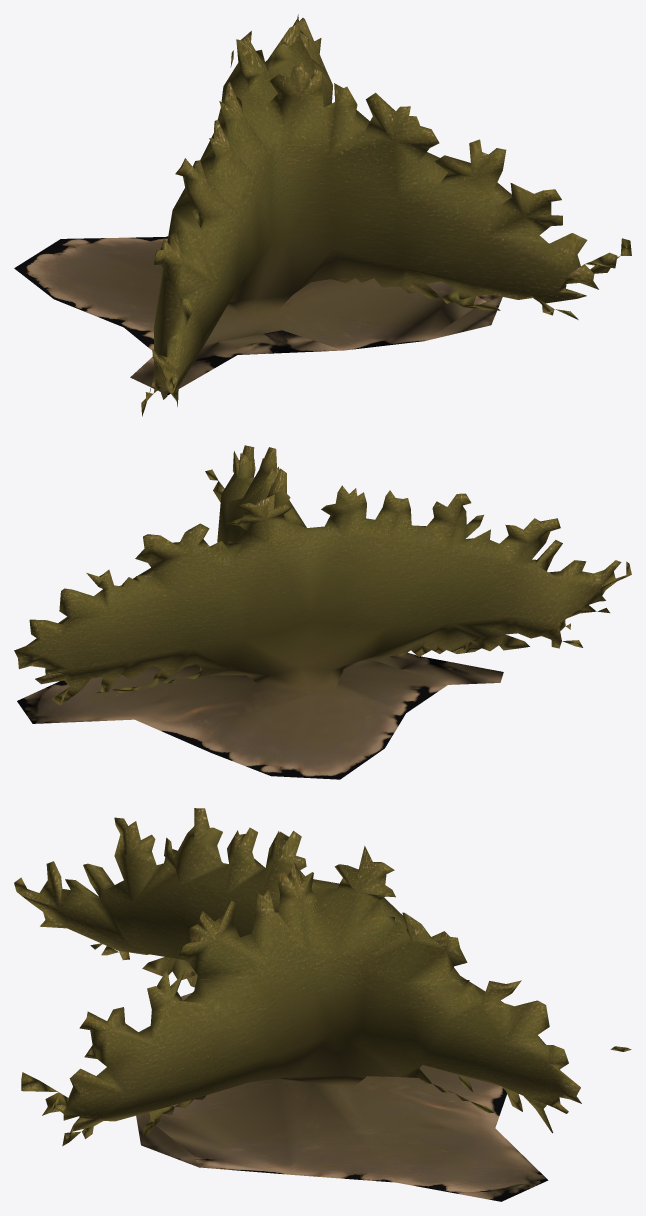
File: plants_02.glb
3 views of the same model, one above another, from view 1: azimuth 30°, elevation 25°; view 2: azimuth 150°, elevation 25°; view 3: azimuth 270°, elevation 25° (orthographic). The views are drawn at different scales.
Parts seen in each view (by area): view 1: tripo_node_1519a15f-d3ce-4f58-a5b6-7676db2dc0d9; view 2: tripo_node_1519a15f-d3ce-4f58-a5b6-7676db2dc0d9; view 3: tripo_node_1519a15f-d3ce-4f58-a5b6-7676db2dc0d9.
Part boxes in pixels (x1,y1,x2,y2): tripo_node_1519a15f-d3ce-4f58-a5b6-7676db2dc0d9: [14, 14, 631, 416]; tripo_node_1519a15f-d3ce-4f58-a5b6-7676db2dc0d9: [14, 445, 631, 779]; tripo_node_1519a15f-d3ce-4f58-a5b6-7676db2dc0d9: [14, 808, 631, 1201].
Size of the model in its own units: 1.61 by 0.8 by 1.82.
1 material, 1 textured.
